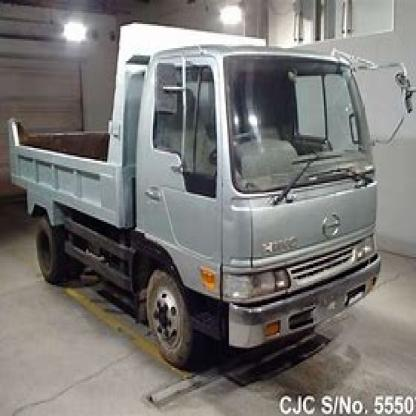dump_truck: (12, 24, 382, 374)
